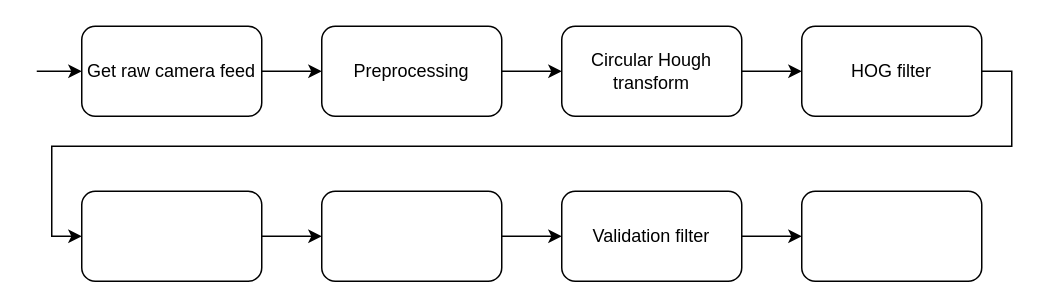
The diagram is 1050 pixels wide and 308 high, and some of its shapes have lost their labels. Each missing label, with the centre of its shape:
"Colour filter" belongs at (171,235).
"Image to world space" belongs at (411,235).
"Kalman filter" belongs at (891,235).
